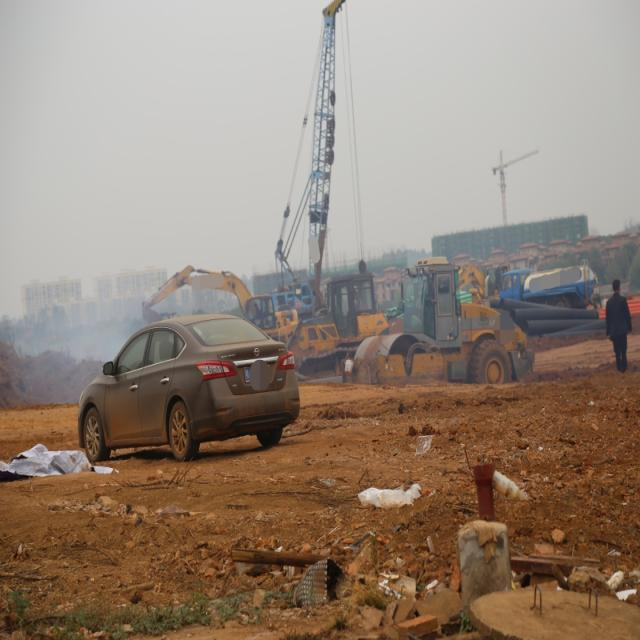crane: (268, 0, 347, 321), (492, 148, 538, 249)
excavator: (142, 264, 298, 346), (458, 263, 510, 304)
machinery: (286, 272, 389, 379)
